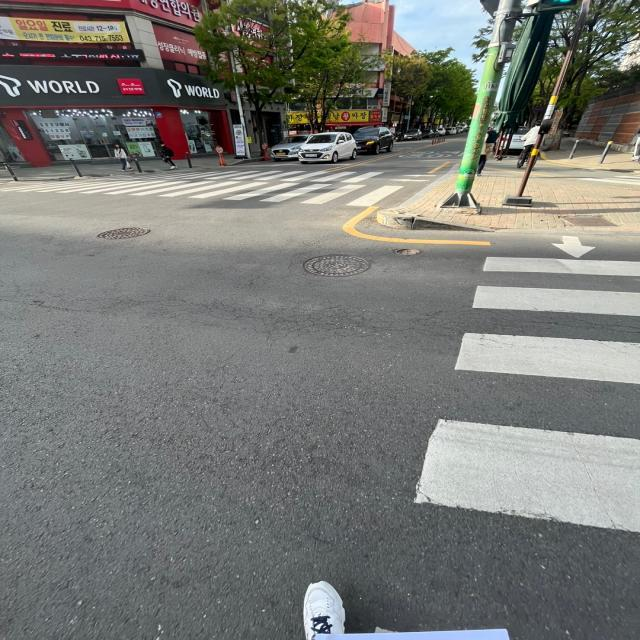Sewer Cover: (280, 250, 384, 290), (91, 219, 164, 254)
